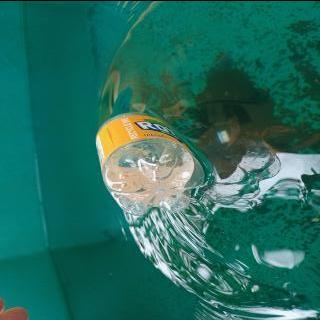bottle: (91, 106, 208, 220)
